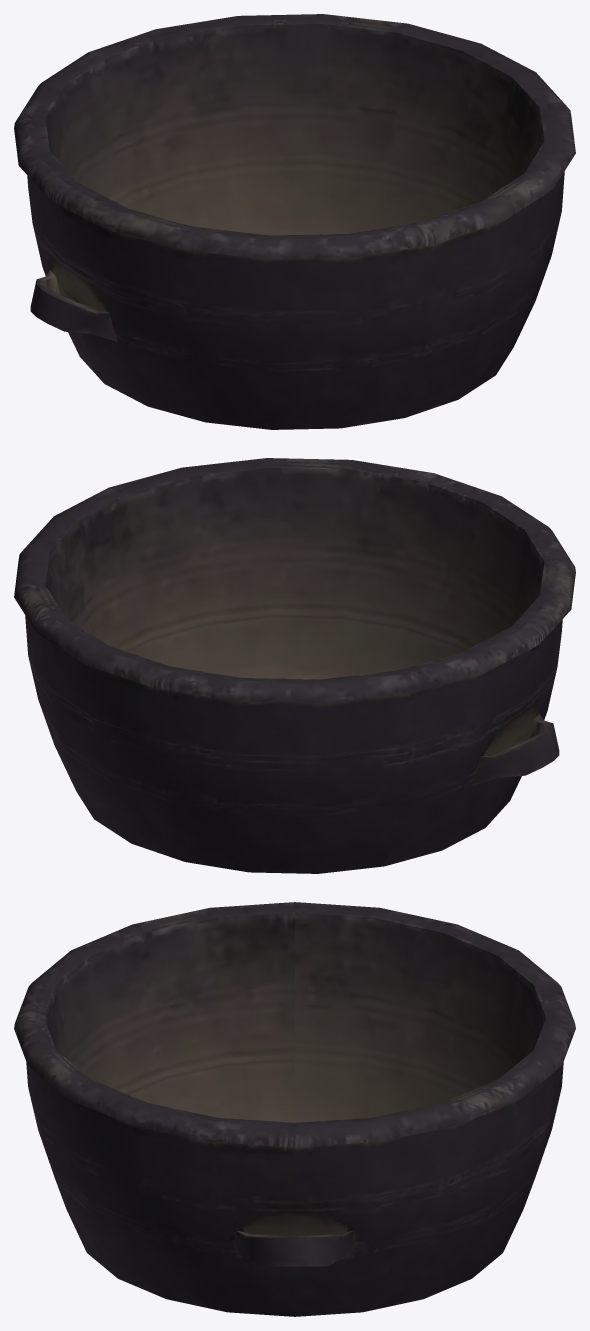
The model's file is large-basin.glb.
The picture shows the model from 3 angles, top to bottom: view 1: azimuth 30°, elevation 25°; view 2: azimuth 150°, elevation 25°; view 3: azimuth 270°, elevation 25°; orthographic projection.
Parts seen in each view (by area): view 1: SM_Basin01b_M_Basin01b_0; view 2: SM_Basin01b_M_Basin01b_0; view 3: SM_Basin01b_M_Basin01b_0.
Boxes of the visible parts, x1,y1,x2,y2 form: SM_Basin01b_M_Basin01b_0: (14,14,575,429); SM_Basin01b_M_Basin01b_0: (14,458,575,873); SM_Basin01b_M_Basin01b_0: (14,902,575,1316).
Bounding box in the file's own units: 0.5235 × 0.203 × 0.4945.
Materials: 1 (1 with a texture image).
